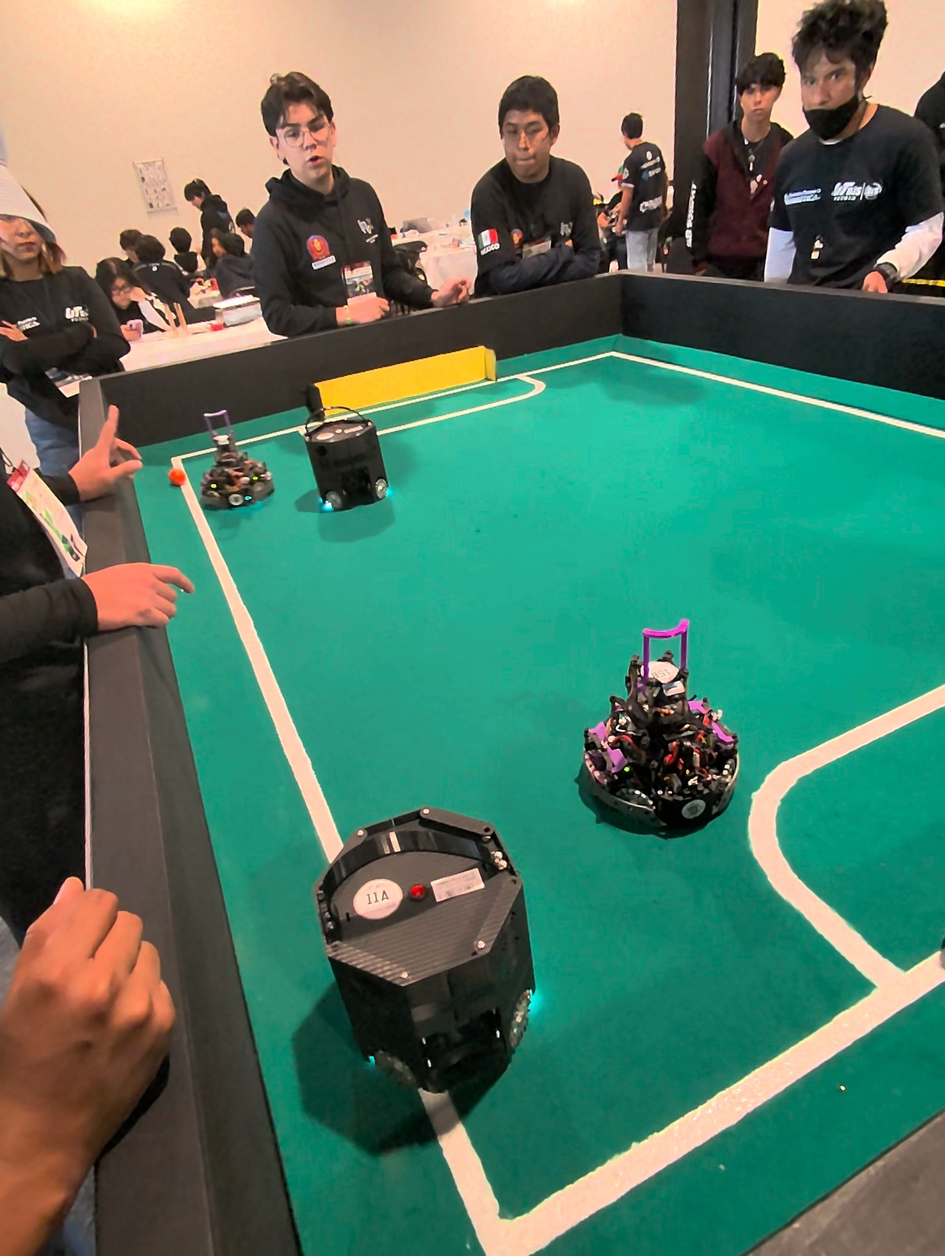Robot: (301, 810, 558, 1132), (579, 642, 740, 848), (296, 374, 406, 541), (197, 427, 278, 515)
pelota: (170, 468, 186, 488)
